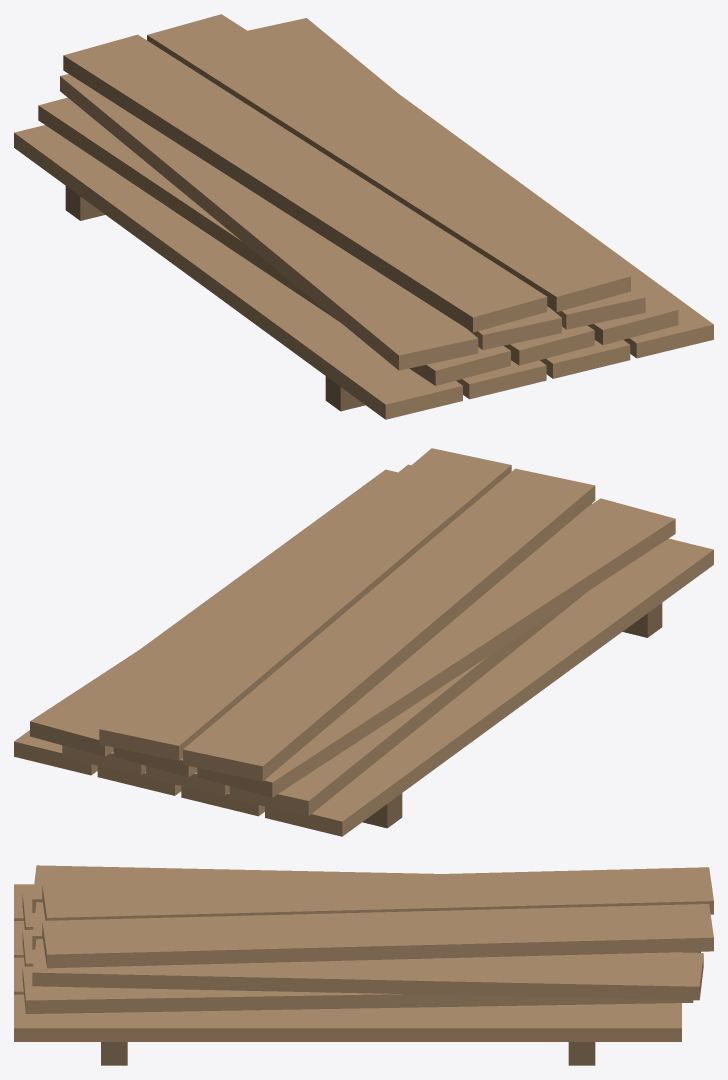
Rendered from prop-plank-stack.fbx.
The picture shows the model from 3 angles, top to bottom: view 1: azimuth 30°, elevation 25°; view 2: azimuth 150°, elevation 25°; view 3: azimuth 270°, elevation 25°; orthographic projection. The views are drawn at different scales.
Visible parts, largest first — view 1: prop-plank-stack; view 2: prop-plank-stack; view 3: prop-plank-stack.
Boxes of the visible parts, x1,y1,x2,y2 form: prop-plank-stack: [14, 14, 713, 419]; prop-plank-stack: [14, 448, 713, 836]; prop-plank-stack: [14, 865, 713, 1065].
Bounding box in the file's own units: 102 × 27.75 × 210.
